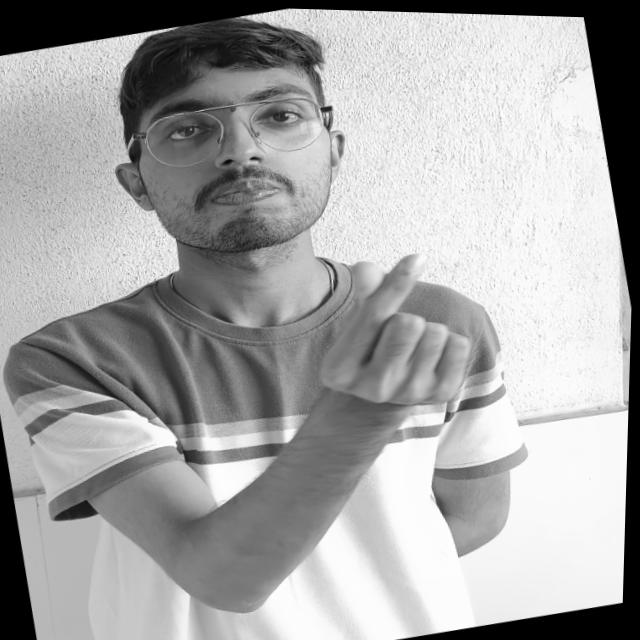Grattitude: (269, 215, 551, 447)
